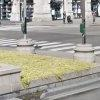Crosswalk: (4, 34, 93, 59)
